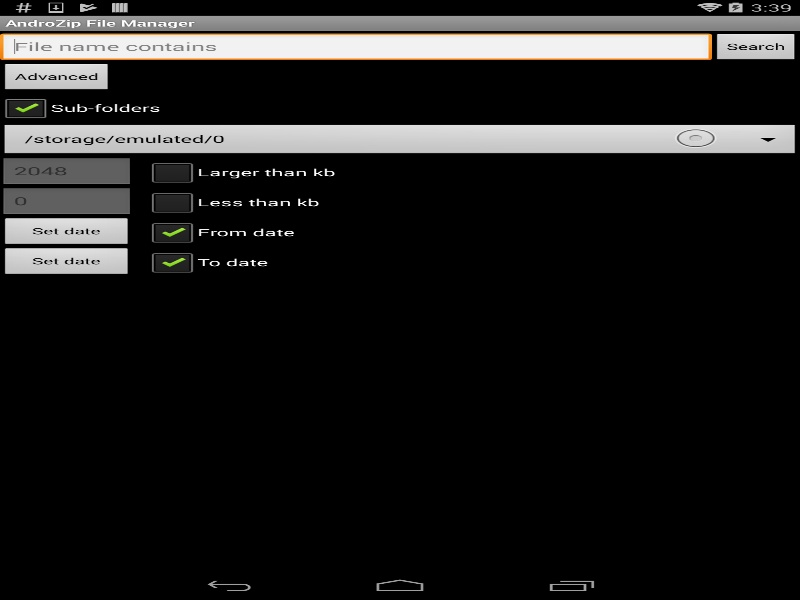Button: (0, 217, 133, 247), (0, 247, 133, 277), (0, 63, 113, 93), (712, 33, 800, 63)
Input: (0, 33, 712, 63), (0, 157, 133, 187), (0, 187, 133, 217)
